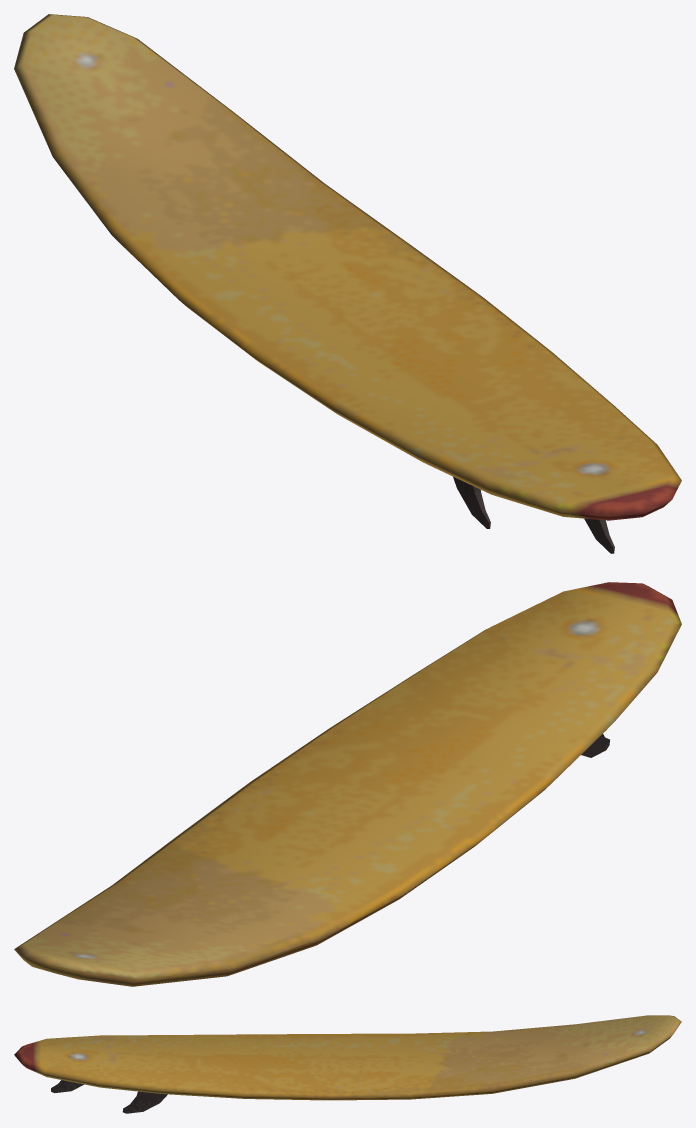
File: hbxz_wj016_07.FBX
3 renders of one model, top to bottom at view 1: azimuth 30°, elevation 25°; view 2: azimuth 150°, elevation 25°; view 3: azimuth 270°, elevation 25°, orthographic. The views are drawn at different scales.
Visible parts, largest first — view 1: hbxz_wj016_07; view 2: hbxz_wj016_07; view 3: hbxz_wj016_07.
Part boxes in pixels (<box>): hbxz_wj016_07: <box>14,14,681,553</box>; hbxz_wj016_07: <box>14,582,681,986</box>; hbxz_wj016_07: <box>14,1015,681,1113</box>.
Bounding box in the file's own units: 42.7 × 24.23 × 190.
1 material, 1 textured.
